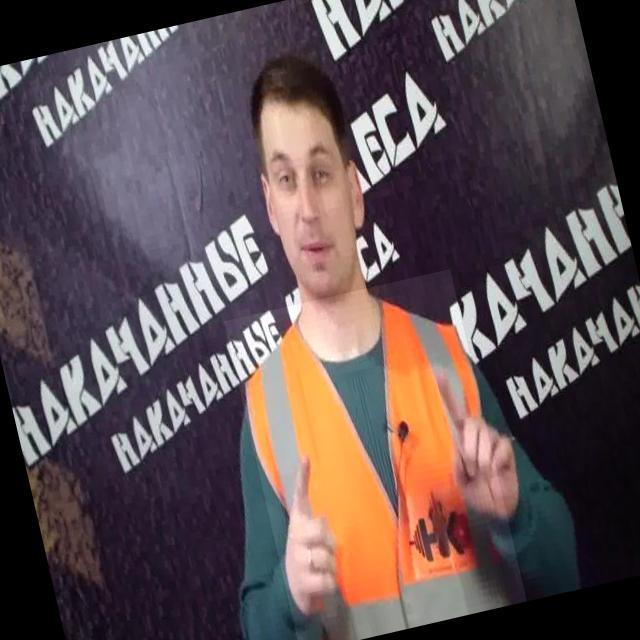Person: (203, 43, 589, 640)
Safety Vest: (223, 268, 526, 640)
bare-arms: (428, 350, 522, 534), (282, 436, 345, 630)
no-helmet: (244, 54, 341, 115)
